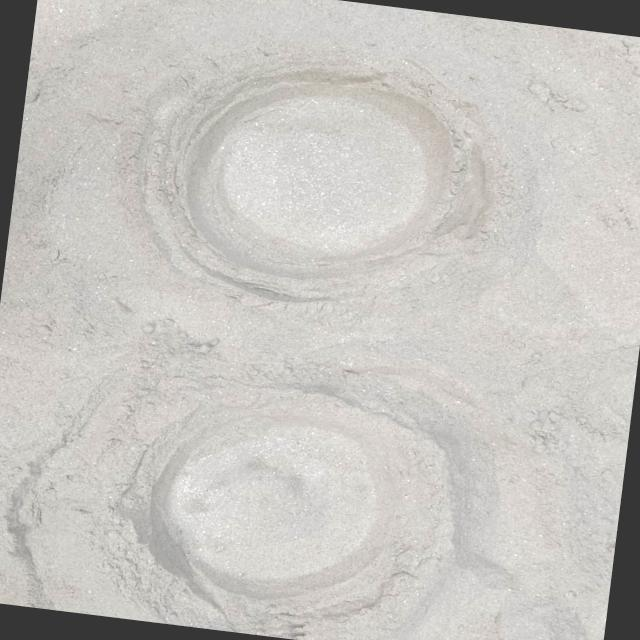C20: (148, 386, 455, 639), (177, 83, 477, 291)
